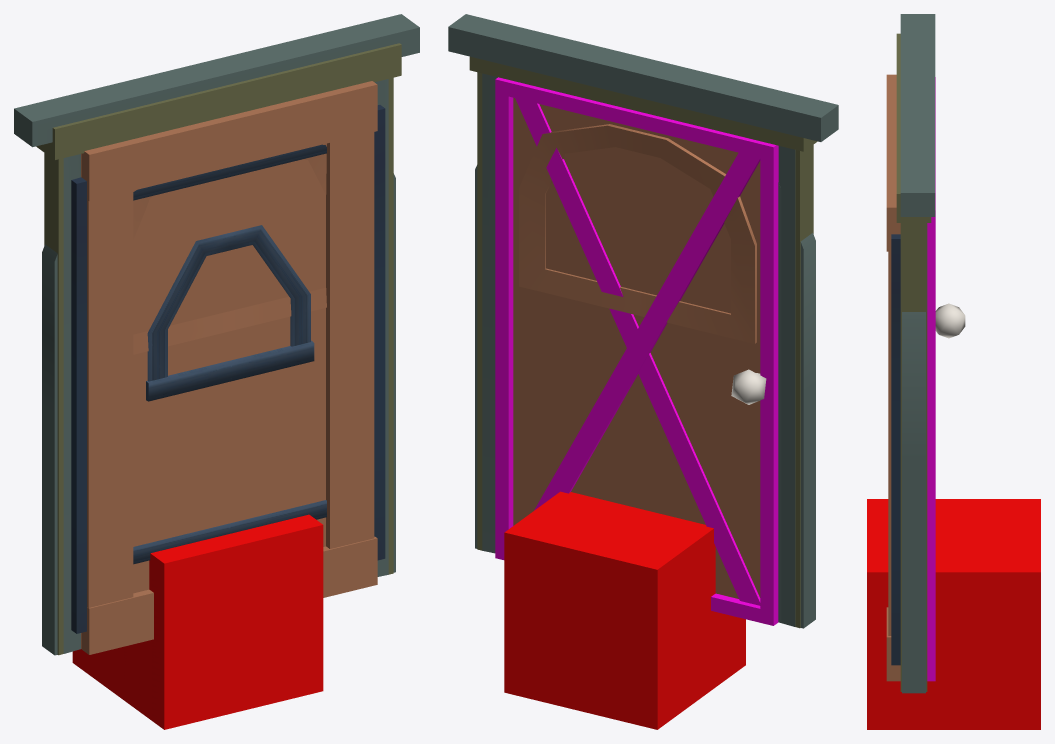
Rendered from Door_Prefab.fbx.
3 views of the same model, side by side, from view 1: azimuth 30°, elevation 25°; view 2: azimuth 150°, elevation 25°; view 3: azimuth 270°, elevation 25° (orthographic). The views are drawn at different scales.
Visible parts, largest first — view 1: Door, Entry_Exit_Zone, GlassDoor, BarnDoorFrame, Door_Frame, ArchDoorFrame, ArchDoor; view 2: BarnDoor, Entry_Exit_Zone, BarnDoorFrame, ArchDoor, Door_Frame, ArchDoorFrame; view 3: Entry_Exit_Zone, ArchDoorFrame, BarnDoorFrame, Door_Frame, GlassDoor, BarnDoor, Door, ArchDoor.
Boxes of the visible parts, x1,y1,x2,y2 form: Door: (81, 81, 377, 654); Entry_Exit_Zone: (72, 514, 323, 729); GlassDoor: (71, 105, 385, 633); BarnDoorFrame: (14, 14, 419, 653); Door_Frame: (36, 43, 401, 655); ArchDoorFrame: (42, 173, 395, 655); ArchDoor: (81, 143, 326, 648); BarnDoor: (495, 77, 778, 625); Entry_Exit_Zone: (504, 491, 745, 729); BarnDoorFrame: (448, 14, 838, 626); ArchDoor: (519, 124, 766, 404); Door_Frame: (469, 56, 817, 628); ArchDoorFrame: (475, 165, 815, 628); Entry_Exit_Zone: (867, 499, 1040, 729); ArchDoorFrame: (902, 312, 925, 693); BarnDoorFrame: (900, 14, 935, 216); Door_Frame: (896, 33, 931, 691); GlassDoor: (891, 234, 900, 665); BarnDoor: (927, 77, 935, 681); Door: (886, 74, 900, 681); ArchDoor: (935, 303, 965, 338).
Bounding box in the file's own units: 2.44 × 3.74 × 1.
